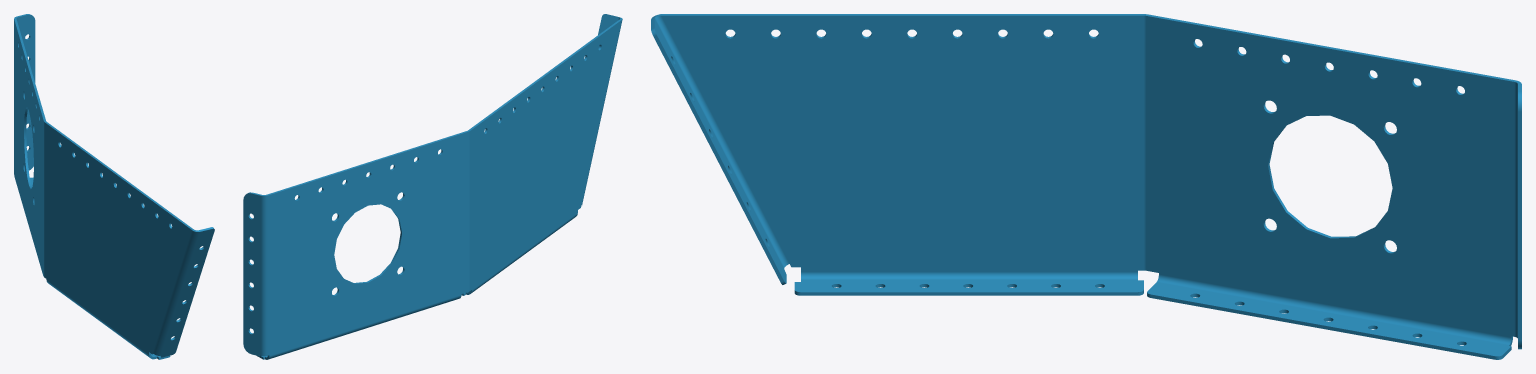
The picture shows the model from 3 angles, left to right: view 1: azimuth 30°, elevation 25°; view 2: azimuth 150°, elevation 25°; view 3: azimuth 270°, elevation 25°; orthographic projection. The views are drawn at different scales.
Parts seen in each view (by area): view 1: mesh6080, mesh6185, mesh6159, mesh6097, mesh6150, mesh6095, mesh6102, mesh6094, mesh6195; view 2: mesh6185, mesh6080, mesh6151, mesh6127, mesh6141, mesh6096, mesh6095, mesh6102, mesh6094; view 3: mesh6104, mesh6184, mesh6175, mesh6166, mesh6142, mesh6116, mesh6107, mesh6158, mesh6145, mesh6121, mesh6110, mesh6128 (+4 smaller).
Boxes of the visible parts, x1=… form: mesh6080: x1=44, y1=122, x2=191, y2=354; mesh6185: x1=14, y1=19, x2=43, y2=276; mesh6159: x1=160, y1=228, x2=214, y2=357; mesh6097: x1=152, y1=230, x2=199, y2=355; mesh6150: x1=18, y1=15, x2=35, y2=170; mesh6095: x1=45, y1=121, x2=193, y2=229; mesh6102: x1=14, y1=18, x2=45, y2=121; mesh6094: x1=46, y1=280, x2=149, y2=357; mesh6195: x1=24, y1=107, x2=31, y2=188; mesh6185: x1=268, y1=131, x2=468, y2=355; mesh6080: x1=470, y1=20, x2=621, y2=290; mesh6151: x1=243, y1=193, x2=260, y2=355; mesh6127: x1=261, y1=195, x2=267, y2=356; mesh6141: x1=268, y1=295, x2=461, y2=359; mesh6096: x1=468, y1=131, x2=470, y2=291; mesh6095: x1=468, y1=19, x2=621, y2=130; mesh6102: x1=267, y1=131, x2=467, y2=195; mesh6094: x1=471, y1=213, x2=577, y2=293; mesh6104: x1=661, y1=15, x2=1143, y2=271; mesh6184: x1=1146, y1=16, x2=1514, y2=337; mesh6175: x1=1147, y1=282, x2=1510, y2=356; mesh6166: x1=794, y1=280, x2=1143, y2=292; mesh6142: x1=1157, y1=274, x2=1511, y2=345; mesh6116: x1=801, y1=272, x2=1137, y2=279; mesh6107: x1=654, y1=15, x2=789, y2=268; mesh6158: x1=654, y1=19, x2=786, y2=283; mesh6145: x1=1150, y1=294, x2=1494, y2=359; mesh6121: x1=800, y1=292, x2=1137, y2=295; mesh6110: x1=654, y1=35, x2=783, y2=281; mesh6128: x1=1514, y1=82, x2=1517, y2=338.
Bounding box in the file's own units: 0.0661 × 0.0973 × 0.2896.
